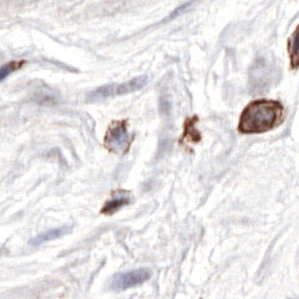Lymphocyte: (234, 99, 286, 135)
